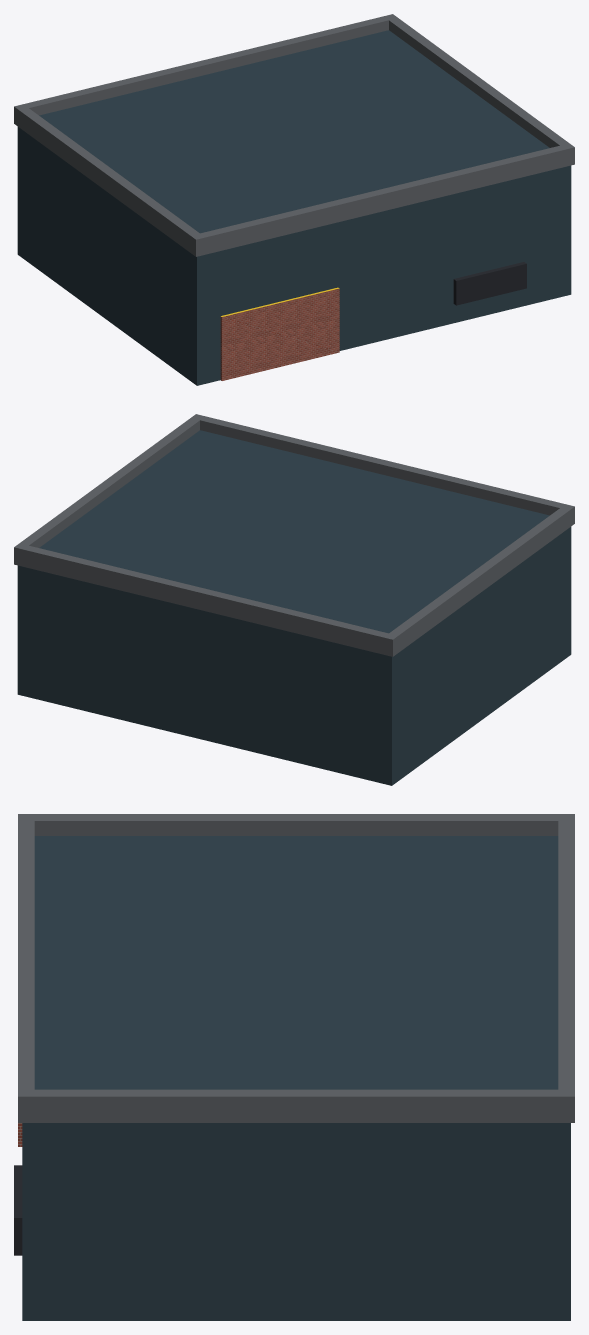
Rendered from cyxd_hangar3_annex.gltf.
3 views of the same model, one above another, from view 1: azimuth 30°, elevation 25°; view 2: azimuth 150°, elevation 25°; view 3: azimuth 270°, elevation 25° (orthographic). The views are drawn at different scales.
Visible parts, largest first — view 1: cyxd_hangar3_annex; view 2: cyxd_hangar3_annex; view 3: cyxd_hangar3_annex.
Part boxes in pixels (bbox=[...]): cyxd_hangar3_annex: bbox=[14, 14, 574, 385]; cyxd_hangar3_annex: bbox=[14, 414, 574, 785]; cyxd_hangar3_annex: bbox=[14, 814, 574, 1320].
Bounding box in the file's own units: 16.1 × 6 × 13.5.
